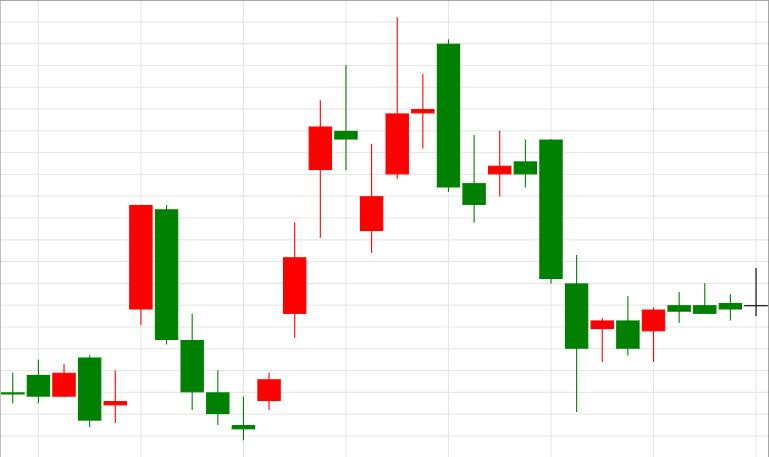bearish_engulfing_fall: (360, 17, 461, 252)
morning_star_rise: (155, 204, 281, 440)
three_white_soldiers_rise: (155, 99, 332, 441)
